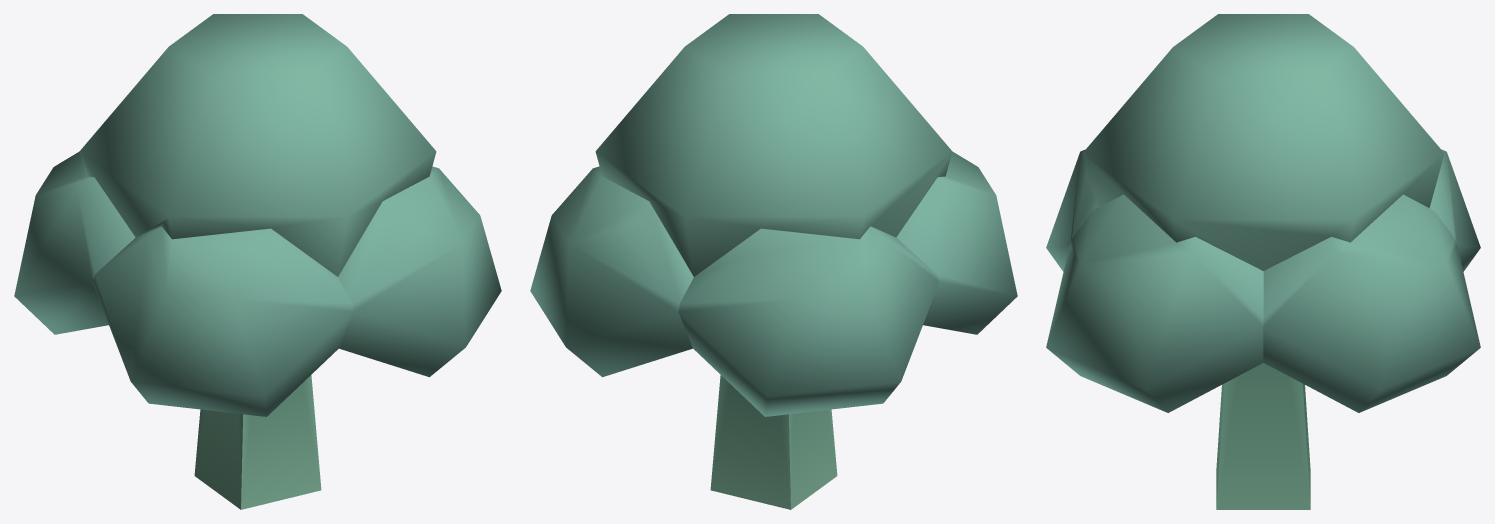
File: broccoli.glb
The picture shows the model from 3 angles, left to right: view 1: azimuth 30°, elevation 25°; view 2: azimuth 150°, elevation 25°; view 3: azimuth 270°, elevation 25°; orthographic projection.
Visible parts, largest first — view 1: broccoli; view 2: broccoli; view 3: broccoli.
Boxes of the visible parts, box(x1,y1,x2,y2) form: broccoli: box(14, 14, 501, 509); broccoli: box(530, 14, 1017, 509); broccoli: box(1046, 14, 1480, 509).
Size of the model in its own units: 0.3752 by 0.4217 by 0.3752.
